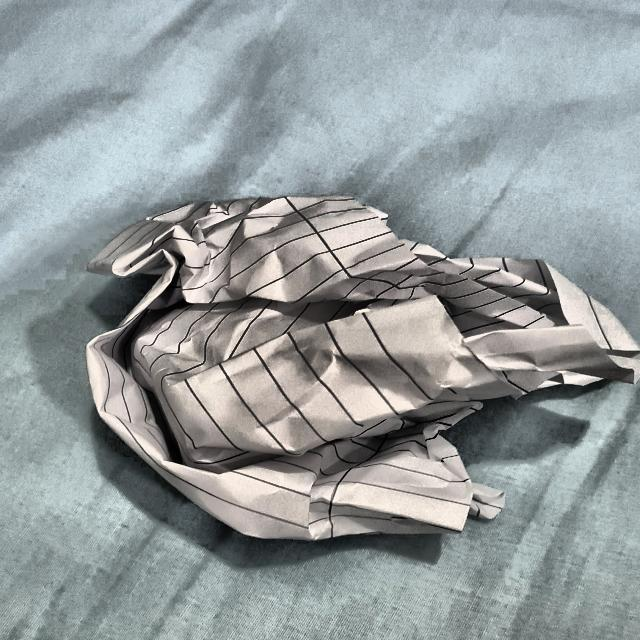paper: (83, 192, 640, 551)
